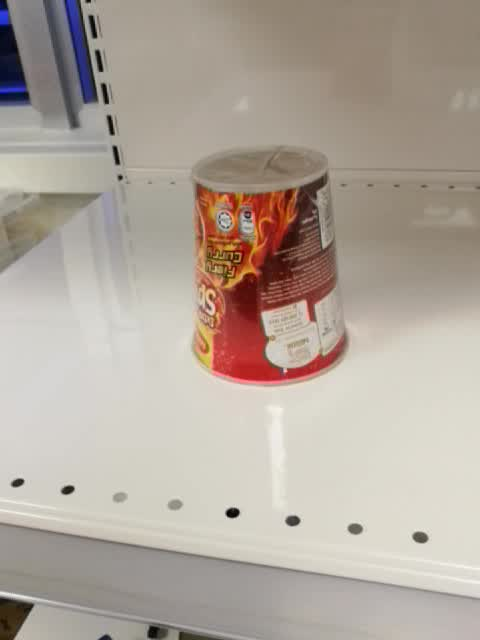maggi: (188, 144, 350, 388)
